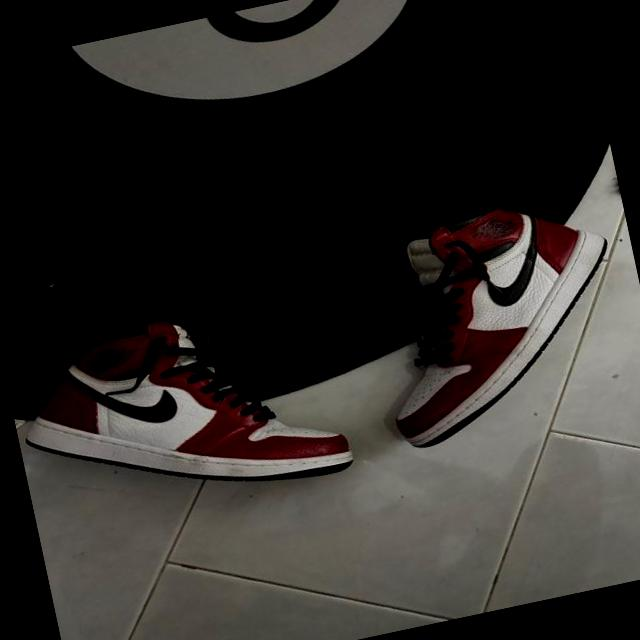nike_original_jordan: (4, 276, 365, 534), (349, 185, 639, 457)
